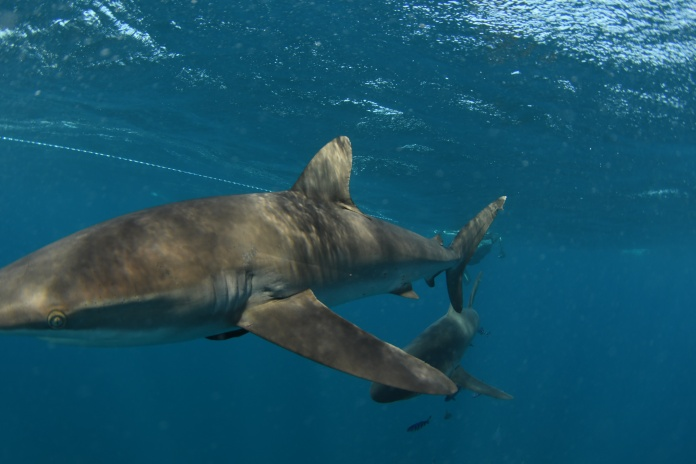Sedoso: (1, 124, 523, 404)
